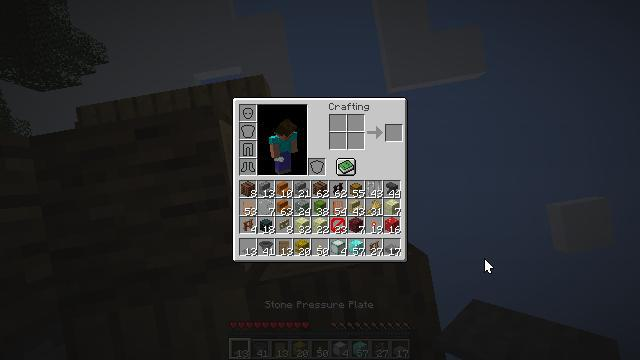cursor: (484, 258, 494, 274)
